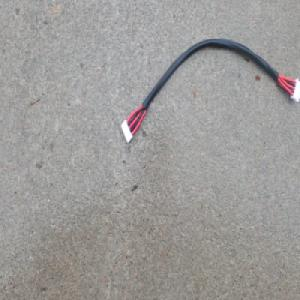Wire: (119, 36, 297, 145)
